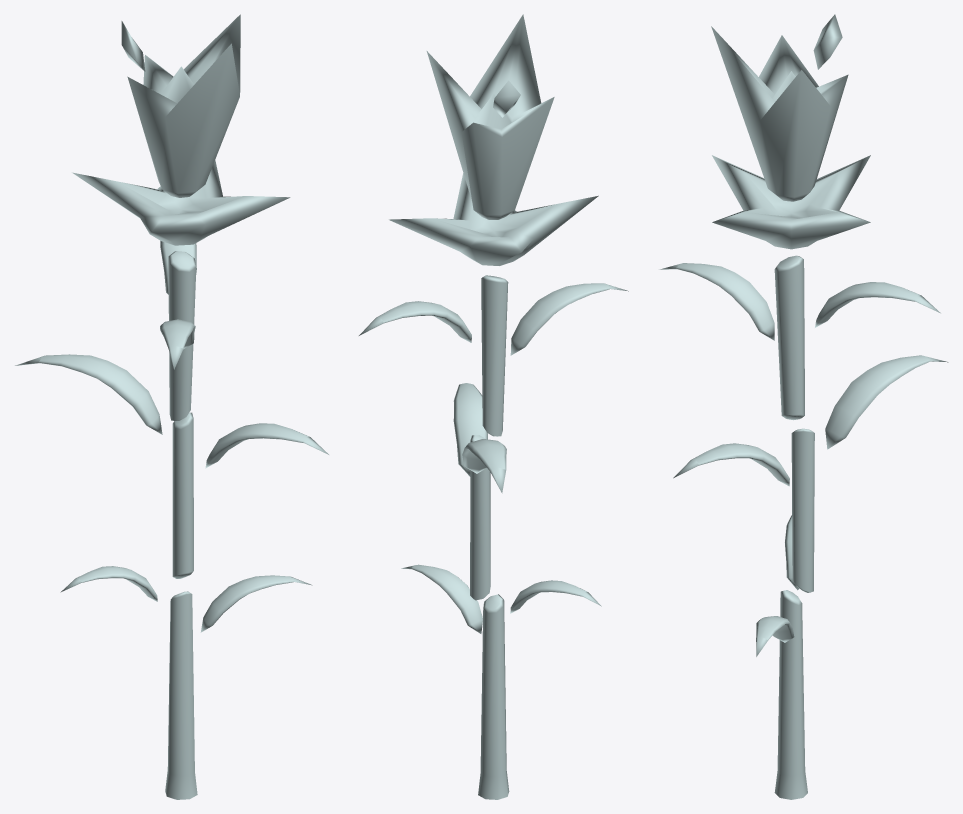
The model's file is cometPlant_stage3.fbx.
The picture shows the model from 3 angles, left to right: view 1: azimuth 30°, elevation 25°; view 2: azimuth 150°, elevation 25°; view 3: azimuth 270°, elevation 25°; orthographic projection. The views are drawn at different scales.
Parts seen in each view (by area): view 1: comet_stem, comet_fruit, comet_openPod, comet_leaf4, comet_leaf3, comet_leaf2, comet_leaf1, comet_leaf6, comet_leaf5; view 2: comet_fruit, comet_stem, comet_openPod, comet_leaf6, comet_leaf3, comet_leaf2, comet_leaf5, comet_leaf4, comet_leaf1, comet_fruit_shard; view 3: comet_stem, comet_fruit, comet_openPod, comet_leaf4, comet_leaf6, comet_leaf5, comet_leaf3, comet_leaf2, comet_fruit_shard.
Part boxes in pixels (x1,y1,x2,y2): comet_stem: [165, 251, 197, 799]; comet_fruit: [127, 14, 240, 197]; comet_openPod: [72, 160, 290, 245]; comet_leaf4: [15, 354, 162, 434]; comet_leaf3: [205, 423, 328, 468]; comet_leaf2: [200, 575, 312, 632]; comet_leaf1: [60, 566, 157, 601]; comet_leaf6: [160, 319, 195, 369]; comet_leaf5: [160, 241, 196, 294]; comet_fruit: [426, 14, 554, 219]; comet_stem: [470, 275, 509, 799]; comet_openPod: [389, 173, 598, 265]; comet_leaf6: [510, 283, 628, 355]; comet_leaf3: [453, 383, 487, 476]; comet_leaf2: [401, 564, 482, 633]; comet_leaf5: [359, 301, 471, 342]; comet_leaf4: [462, 439, 506, 493]; comet_leaf1: [510, 580, 601, 613]; comet_fruit_shard: [493, 80, 520, 117]; comet_stem: [774, 255, 814, 799]; comet_fruit: [711, 26, 848, 201]; comet_openPod: [712, 155, 870, 249]; comet_leaf4: [825, 355, 948, 449]; comet_leaf6: [659, 263, 774, 340]; comet_leaf5: [815, 282, 940, 327]; comet_leaf3: [673, 443, 789, 486]; comet_leaf2: [756, 616, 794, 656]; comet_fruit_shard: [813, 14, 842, 69].
Bounding box in the file's own units: 47.24 × 151 × 51.66.
